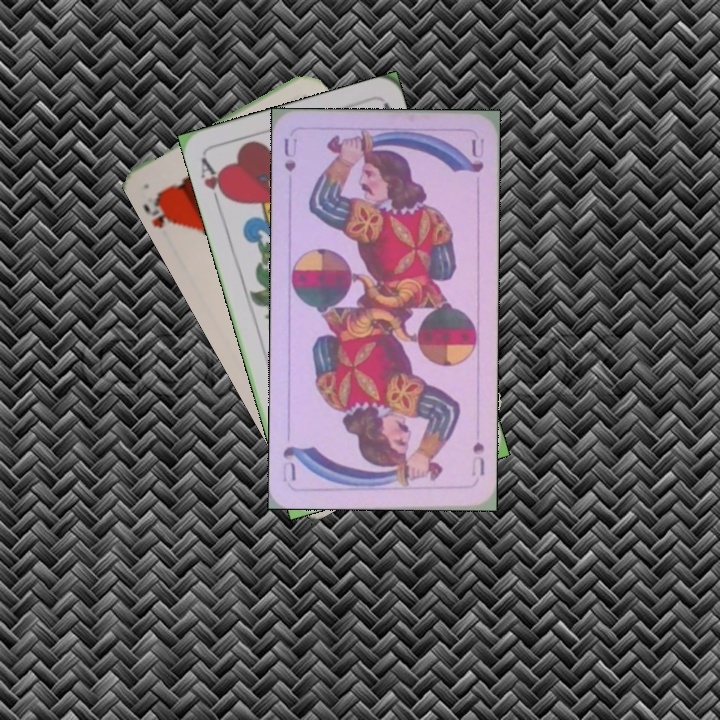HA: (196, 153, 231, 211)
HO: (140, 187, 182, 231)
SU: (467, 438, 487, 478), (280, 133, 299, 174)
